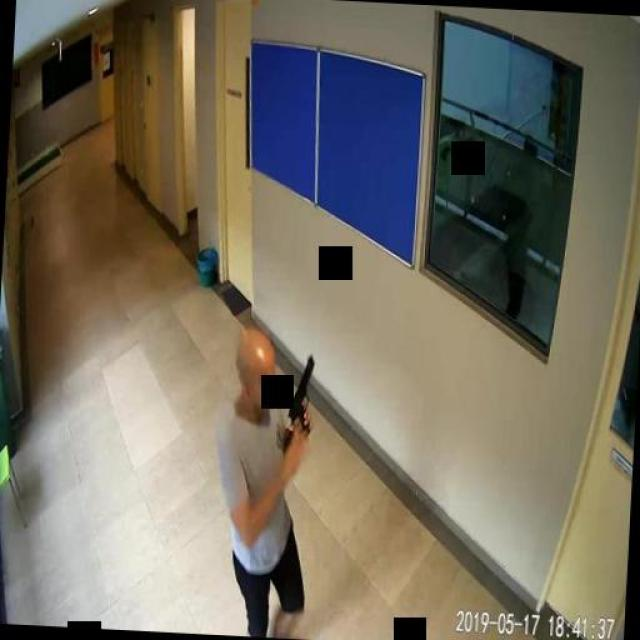gun: (286, 352, 315, 436)
